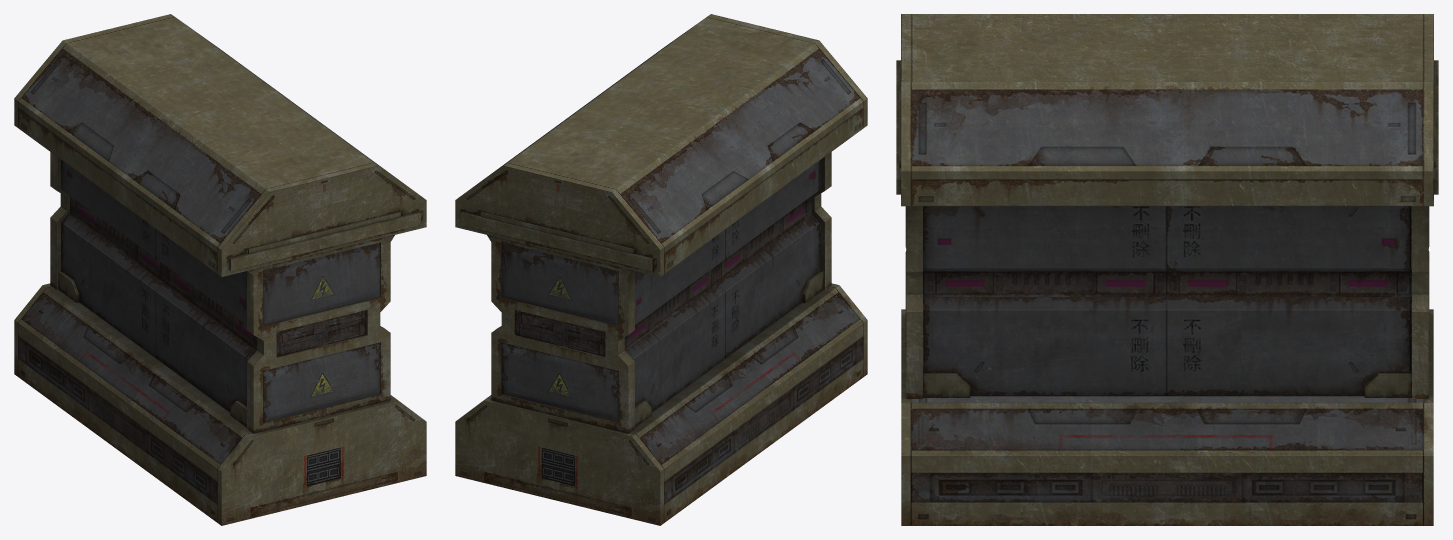
File: server_data_large_01.DAE
3 views of the same model, side by side, from view 1: azimuth 30°, elevation 25°; view 2: azimuth 150°, elevation 25°; view 3: azimuth 270°, elevation 25° (orthographic). The views are drawn at different scales.
Parts seen in each view (by area): view 1: server_data_large_01; view 2: server_data_large_01; view 3: server_data_large_01.
Boxes of the visible parts, <box> form: server_data_large_01: <box>14,14,426,525</box>; server_data_large_01: <box>455,14,867,525</box>; server_data_large_01: <box>896,14,1438,525</box>.
Size of the model in its own units: 2 by 3 by 3.57.
